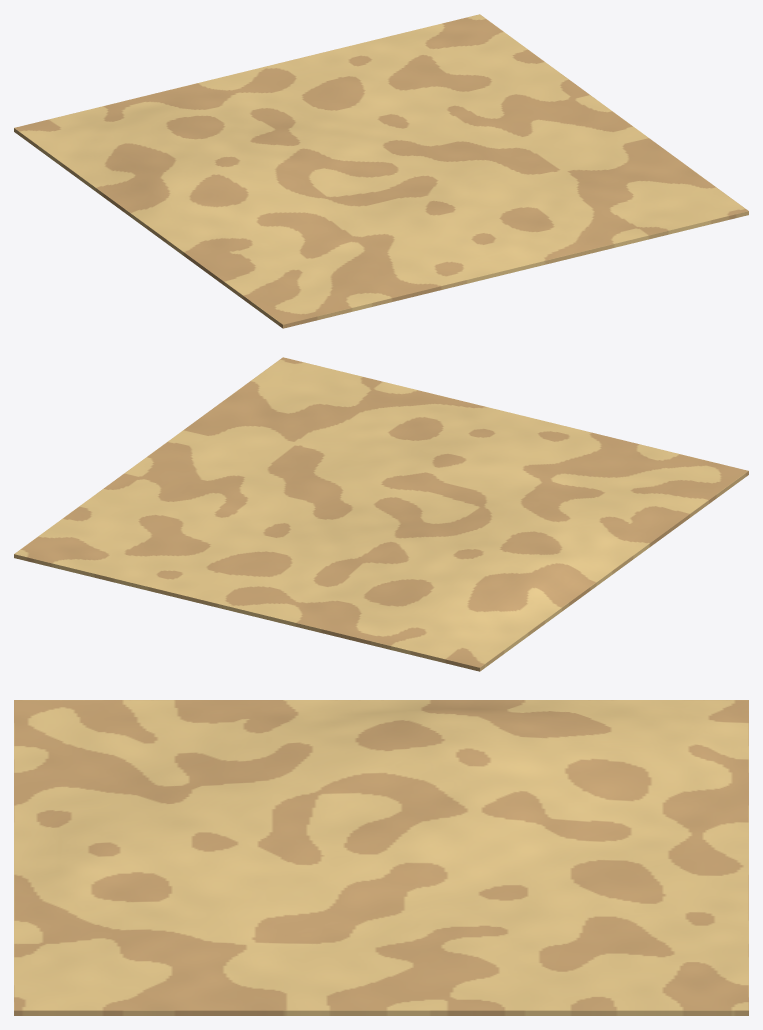
Rendered from Desert_Flat_04.obj.
3 views of the same model, one above another, from view 1: azimuth 30°, elevation 25°; view 2: azimuth 150°, elevation 25°; view 3: azimuth 270°, elevation 25° (orthographic). The views are drawn at different scales.
Bounding box in the file's own units: 10 × 0.364 × 10.
1 material, 1 textured.
